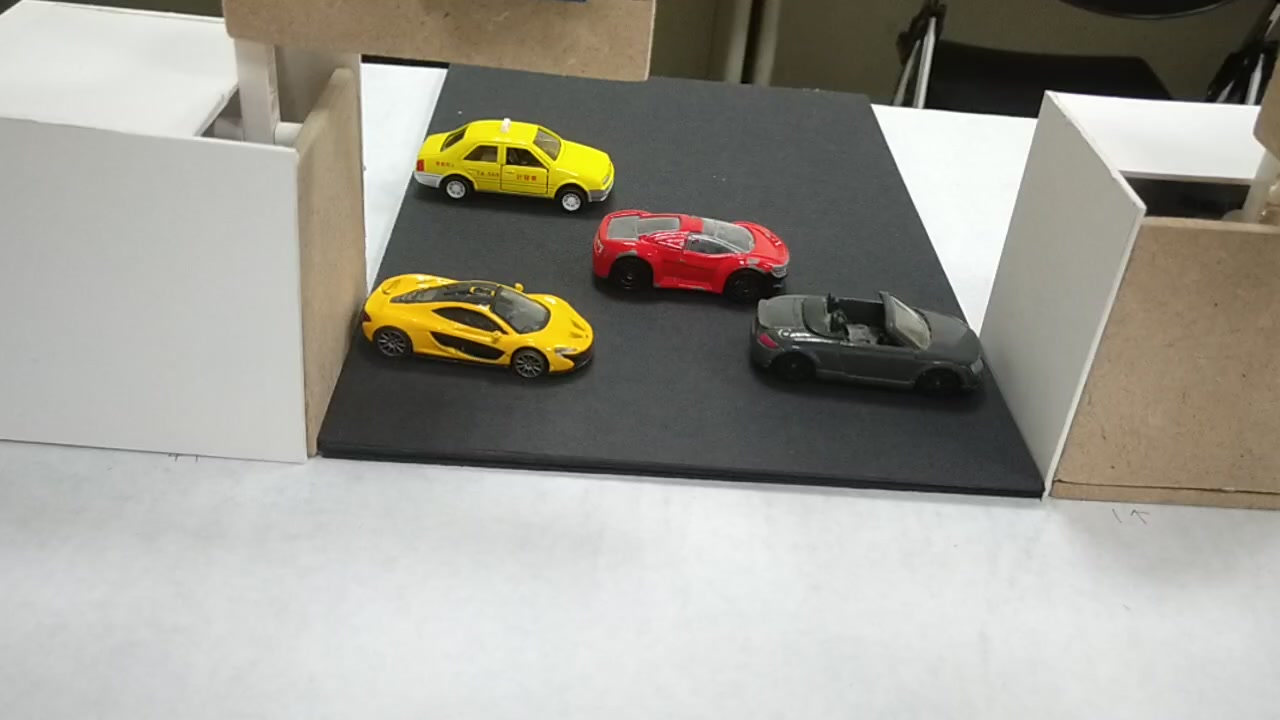car: (358, 269, 597, 381), (753, 290, 981, 394), (592, 204, 784, 301), (419, 129, 614, 205)
